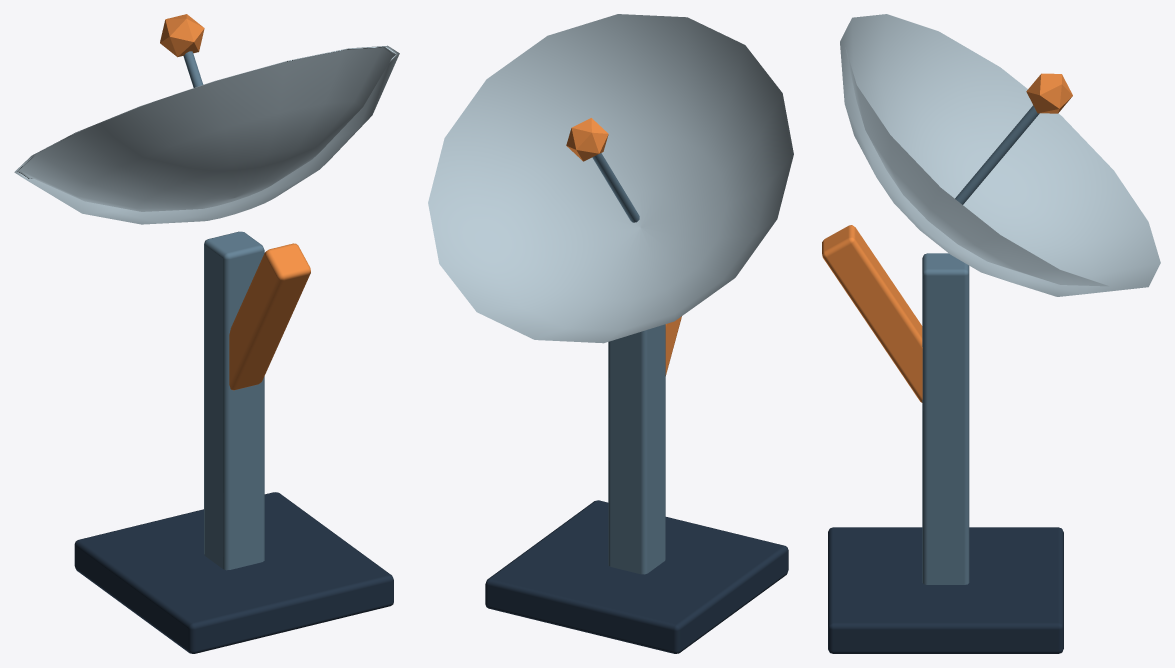
The model's file is satellite-dish.glb.
3 views of the same model, side by side, from view 1: azimuth 30°, elevation 25°; view 2: azimuth 150°, elevation 25°; view 3: azimuth 270°, elevation 25° (orthographic). The views are drawn at different scales.
Visible parts, largest first — view 1: reflector, base, mast, brace, receiver; view 2: reflector, base, mast, receiver, feed-arm; view 3: reflector, base, mast, brace, receiver, feed-arm.
Part boxes in pixels (x1,y1,x2,y2): reflector: [14, 45, 399, 224]; base: [74, 492, 393, 653]; mast: [204, 231, 264, 570]; brace: [229, 243, 310, 390]; receiver: [160, 14, 204, 57]; reflector: [428, 14, 793, 343]; base: [485, 500, 788, 653]; mast: [608, 324, 665, 574]; receiver: [566, 118, 608, 161]; feed-arm: [592, 153, 639, 222]; reflector: [840, 14, 1160, 296]; base: [828, 527, 1063, 653]; mast: [922, 253, 969, 584]; brace: [822, 225, 922, 402]; receiver: [1026, 73, 1072, 113]; feed-arm: [955, 105, 1039, 204].
Bounding box in the file's own units: 1.88 × 2.9 × 1.58.
